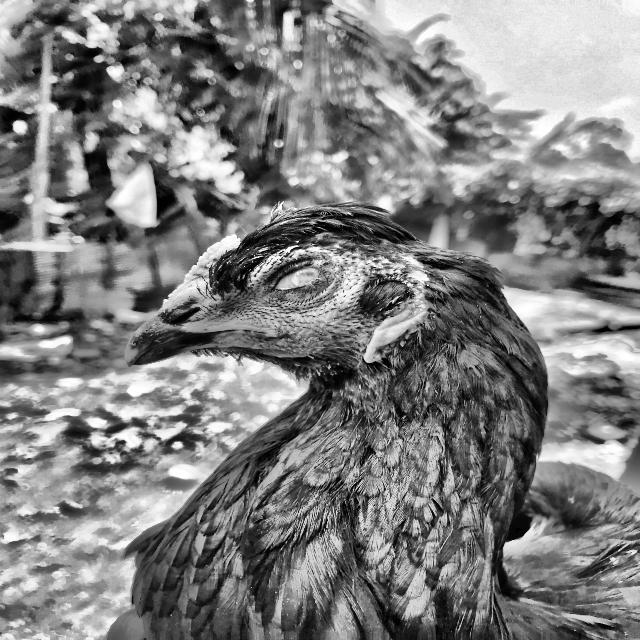Coryza: (74, 164, 600, 415)
